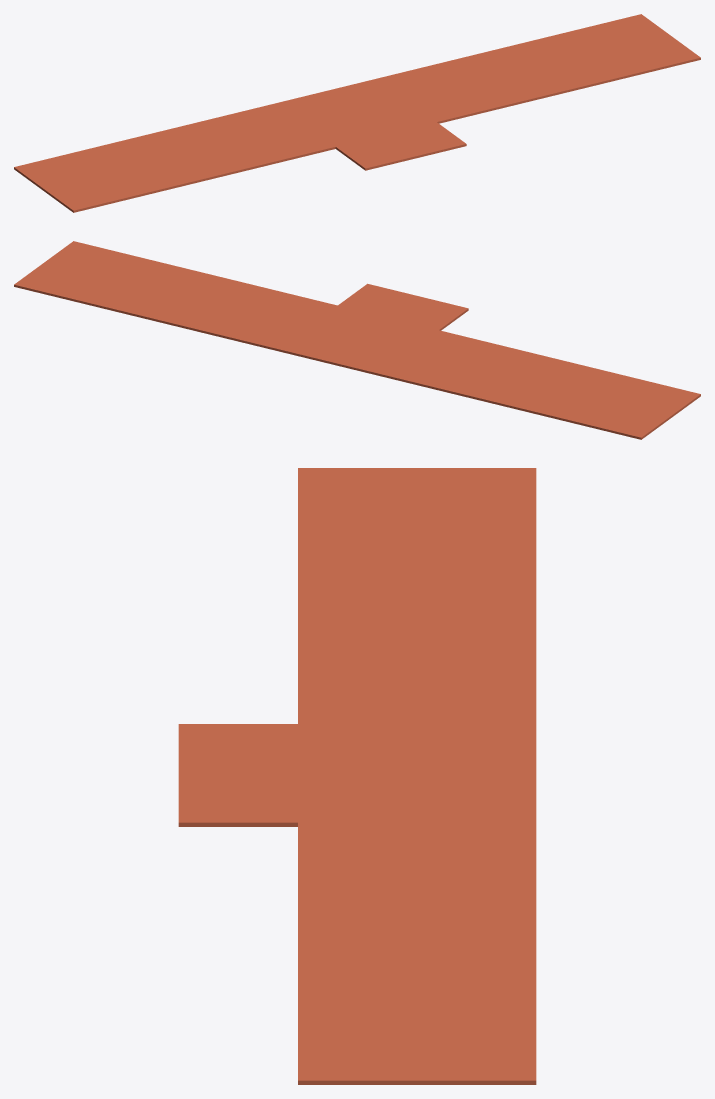
File: floorT 1.fbx
The picture shows the model from 3 angles, top to bottom: view 1: azimuth 30°, elevation 25°; view 2: azimuth 150°, elevation 25°; view 3: azimuth 270°, elevation 25°; orthographic projection. The views are drawn at different scales.
Parts seen in each view (by area): view 1: mergedBlocks; view 2: mergedBlocks; view 3: mergedBlocks.
Part boxes in pixels (x1=…): mergedBlocks: x1=14, y1=14, x2=700, y2=212; mergedBlocks: x1=14, y1=241, x2=700, y2=439; mergedBlocks: x1=178, y1=468, x2=536, y2=1084.
Size of the model in its own units: 304 by 1 by 75.
